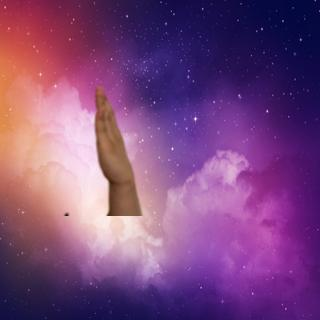RIGHT: (88, 82, 137, 185)
